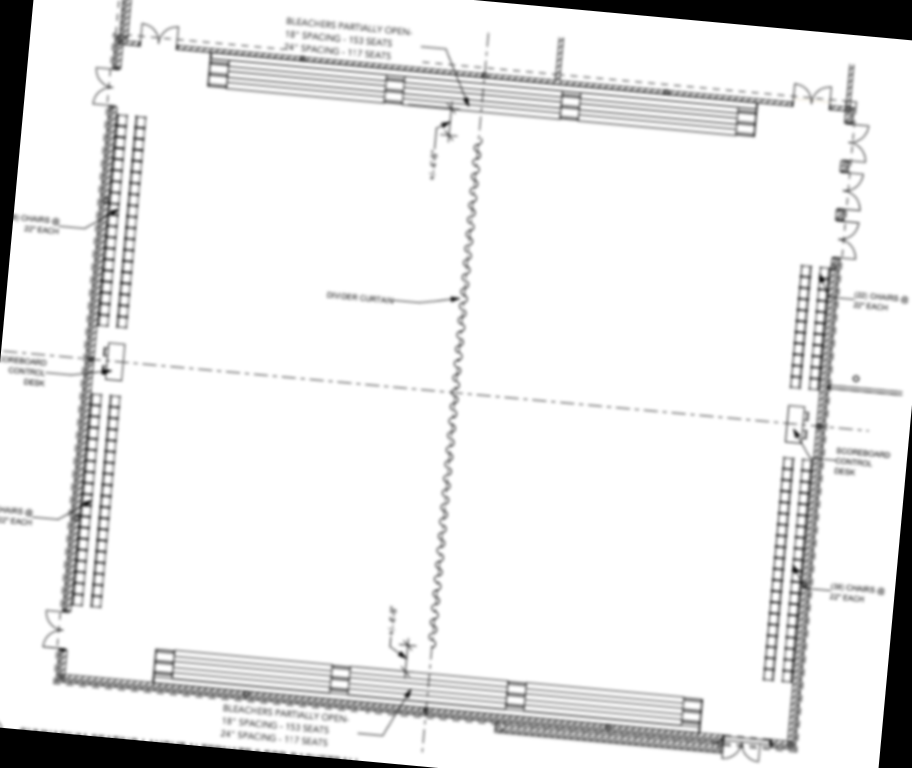double door: (88, 62, 124, 110), (717, 733, 767, 767), (134, 20, 184, 51), (835, 170, 867, 215), (789, 80, 835, 111), (842, 122, 876, 163), (835, 219, 864, 263), (40, 606, 67, 652)
